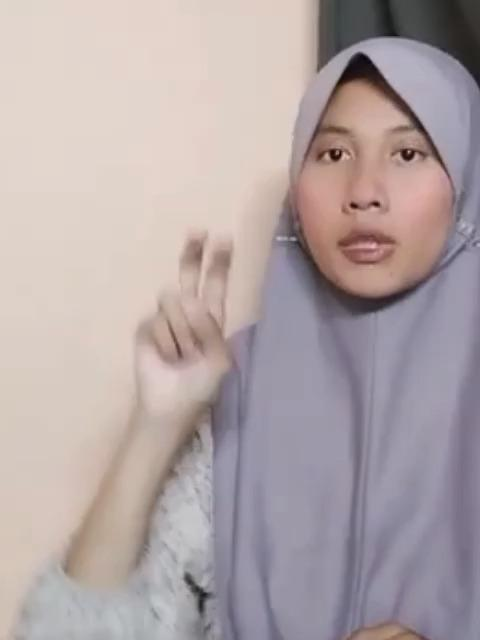U: (122, 224, 240, 418)
